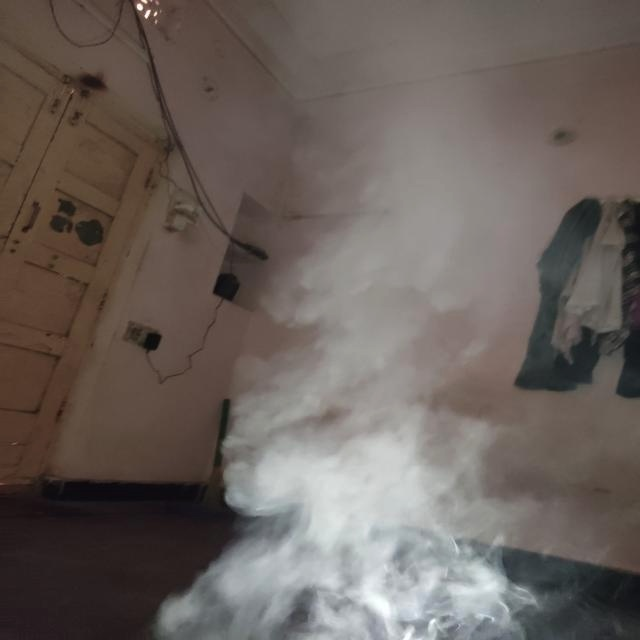smoke: (174, 252, 467, 640)
